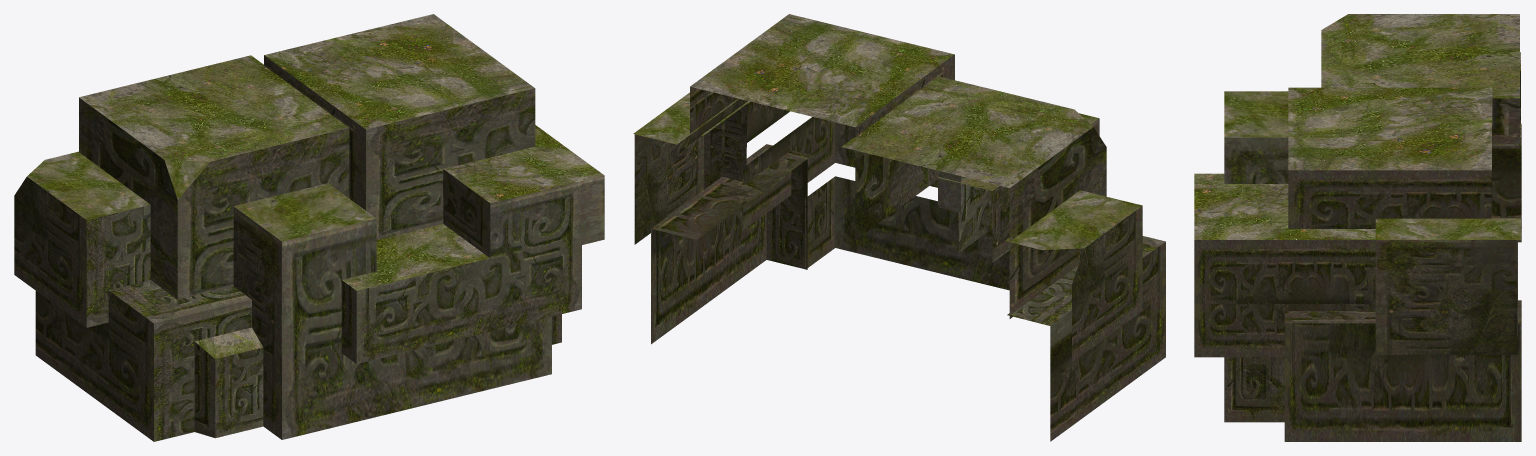
File: yw_huanghunyaosai_jushi03.FBX
3 views of the same model, side by side, from view 1: azimuth 30°, elevation 25°; view 2: azimuth 150°, elevation 25°; view 3: azimuth 270°, elevation 25° (orthographic). The views are drawn at different scales.
Visible parts, largest first — view 1: yw_huanghunyaosai_jushi03; view 2: yw_huanghunyaosai_jushi03; view 3: yw_huanghunyaosai_jushi03.
Part boxes in pixels (<box>): yw_huanghunyaosai_jushi03: <box>14,14,604,441</box>; yw_huanghunyaosai_jushi03: <box>633,14,1165,441</box>; yw_huanghunyaosai_jushi03: <box>1194,14,1521,441</box>.
Size of the model in its own units: 988 by 545 by 624.
